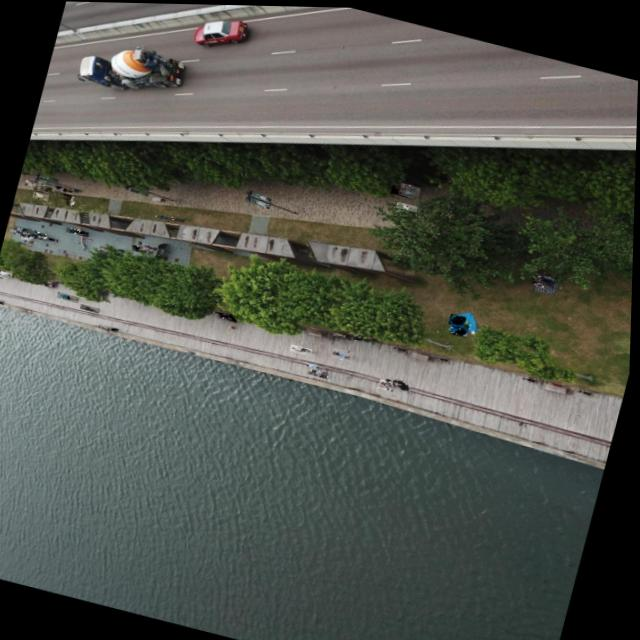Person: (400, 180, 422, 196), (333, 345, 356, 359), (393, 376, 414, 391), (291, 341, 315, 354), (452, 318, 471, 334), (391, 181, 411, 195), (58, 290, 81, 302), (67, 225, 91, 236), (450, 310, 468, 324), (34, 181, 53, 194), (309, 366, 331, 377), (397, 198, 419, 209), (155, 211, 177, 222), (144, 241, 166, 252), (380, 375, 397, 388), (313, 366, 332, 376), (15, 223, 34, 233), (100, 322, 121, 331), (81, 303, 102, 312), (67, 193, 80, 206), (33, 190, 51, 199), (307, 360, 325, 368), (55, 189, 73, 197), (226, 311, 240, 321), (27, 177, 44, 185), (133, 246, 152, 253), (219, 309, 232, 319), (133, 242, 149, 250), (1, 270, 14, 279), (57, 184, 73, 191), (32, 228, 48, 235), (140, 244, 155, 251), (25, 180, 38, 187), (176, 214, 188, 220), (59, 193, 71, 199), (28, 231, 39, 237), (10, 228, 21, 234), (22, 235, 33, 240), (50, 236, 60, 241), (0, 295, 6, 303), (40, 233, 49, 238)
